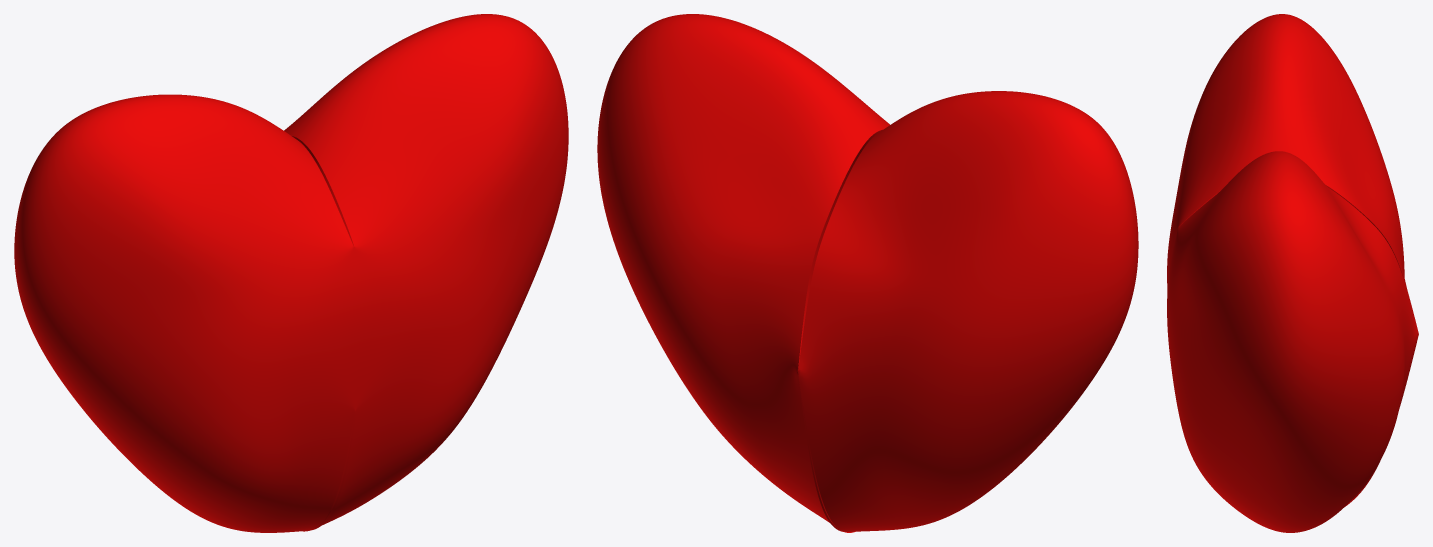
The picture shows the model from 3 angles, left to right: view 1: azimuth 30°, elevation 25°; view 2: azimuth 150°, elevation 25°; view 3: azimuth 270°, elevation 25°; orthographic projection. The views are drawn at different scales.
Visible parts, largest first — view 1: Cube; view 2: Cube; view 3: Cube.
Part boxes in pixels (x1,y1,x2,y2): Cube: (14, 14, 568, 532); Cube: (597, 14, 1138, 532); Cube: (1167, 14, 1418, 532).
Bounding box in the file's own units: 1.9 × 1.59 × 0.8588.
